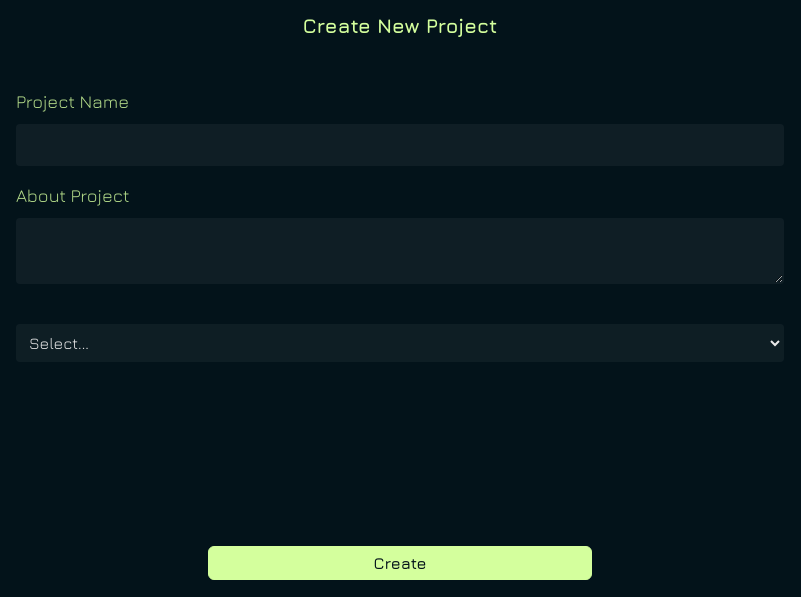
Scenario: CreateProject Component › handles select changes and adds roles
The image size is (801, 597).
Select "Frontend Developer" in the dropdown with test id "roles-select" at (400, 343), box [16,324,784,362]
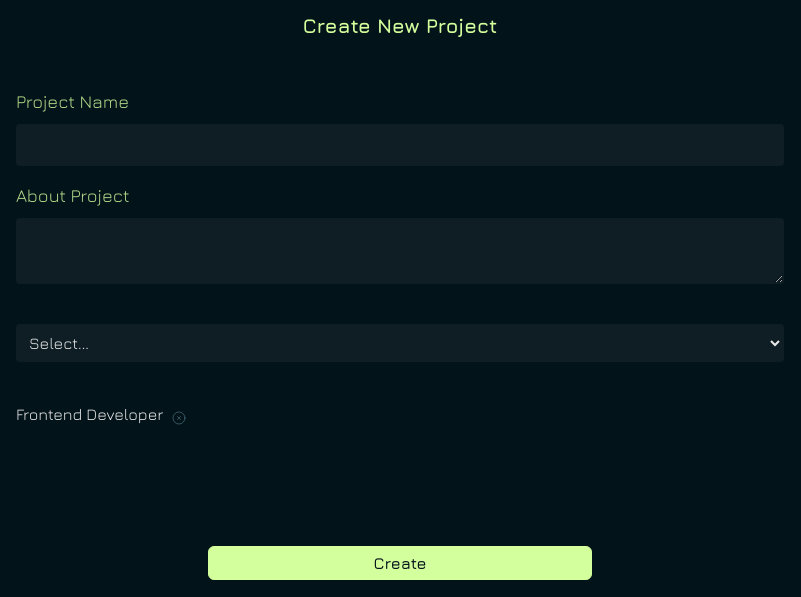
Expected: the text "Frontend Developer" is shown, [16,402,163,426]
Select "Backend Developer" in the dropdown with test id "roles-select" at (400, 343), box [16,324,784,362]
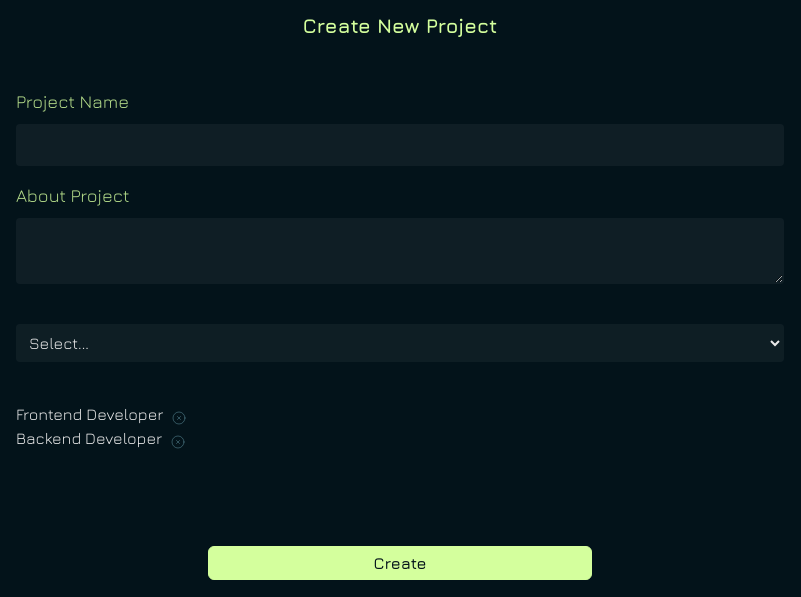
Expected: the text "Backend Developer" is shown, [16,426,162,450]
Select "UI/UX Designer" in the dropdown with test id "roles-select" at (400, 343), box [16,324,784,362]
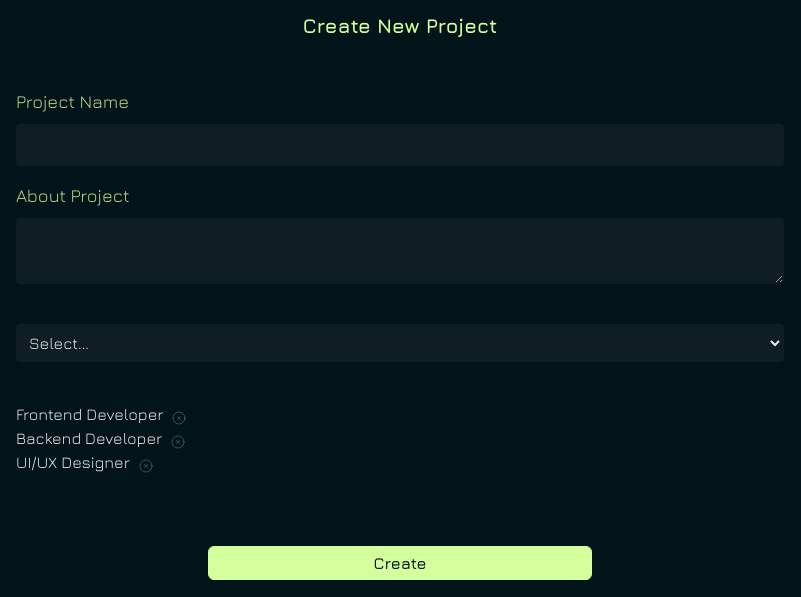
Expected: the text "Frontend Developer" is shown, [16,402,163,426]
Expected: the text "Backend Developer" is shown, [16,426,162,450]
Expected: the text "UI/UX Designer" is shown, [16,450,130,474]
